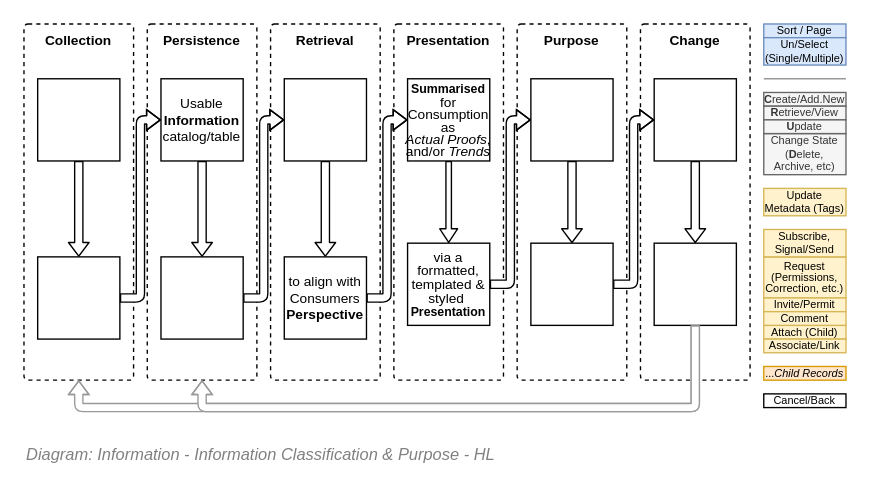
Some shapes in this 871 by 493 pixel diagram are drawn without their labels. The centre of each missing label's shape, as x and y in pixels:
and maybe collect more info as Input: (571,283)
Authorised, Paged, Sorted, Filtered Projection s: (324,119)
before performing a Primary or Secondary Action: (694,119)
Noise signal stream: (78,119)
producing activity stream Data or new Input: (694,283)
Recorded, Workable Correct or Incorrect Data (logs): (78,297)
Synthesised Information (ie JOIN Views): (201,297)
to enable Decisions: (571,119)
